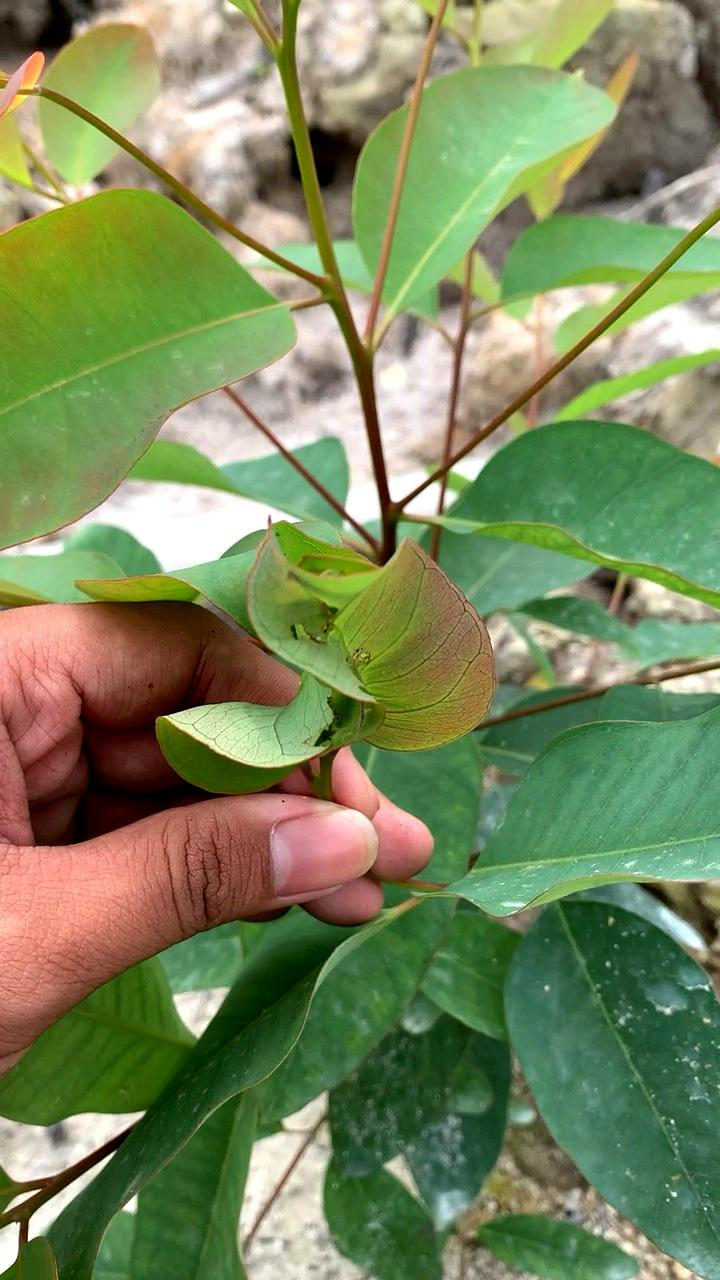Leaf Roller - Leaf: (165, 483, 510, 926)
